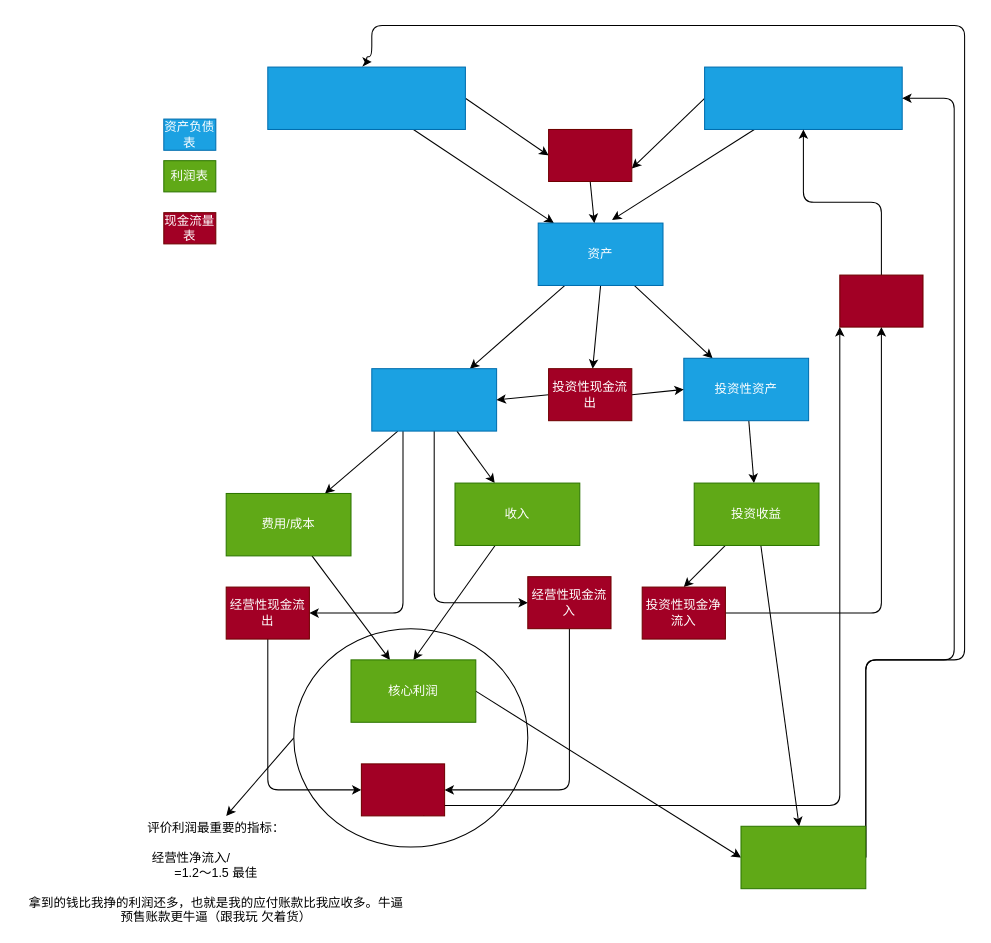
This 991x943 diagram has some shape labels left out. The shapes that lost their labels are listed below. From the top down, each one's centre as x and y in pixels, then its label:
At point (366, 97): "投资者投入（所有者权益）".
At point (803, 97): "债权人（债务）".
At point (590, 154): "融资性现金流入".
At point (881, 300): "融资性现金流出".
At point (434, 399): "经营性资产".
At point (402, 789): "经营性现金净流入".
At point (803, 857): "利润".
